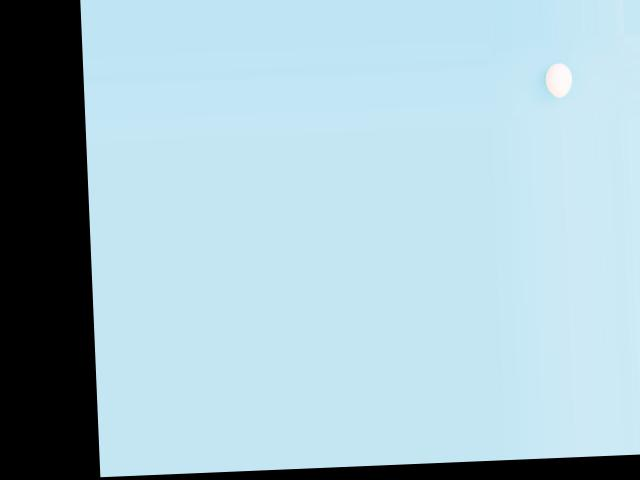egg: (545, 62, 572, 98)
